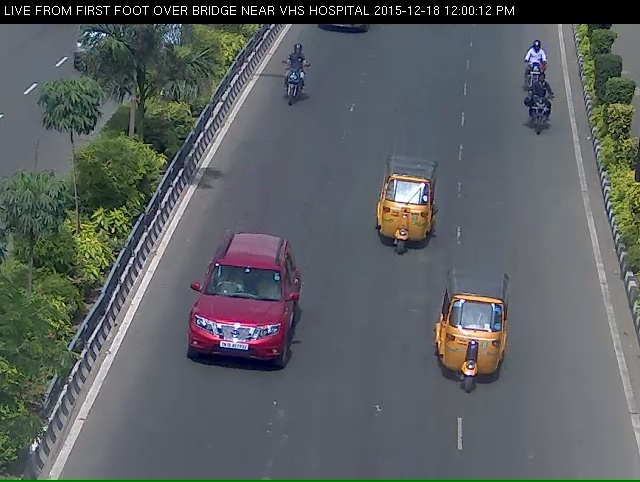Car: (175, 265, 293, 397), (428, 297, 512, 409), (375, 169, 436, 276)
Person: (270, 43, 312, 126), (515, 48, 547, 99), (528, 92, 554, 148)
